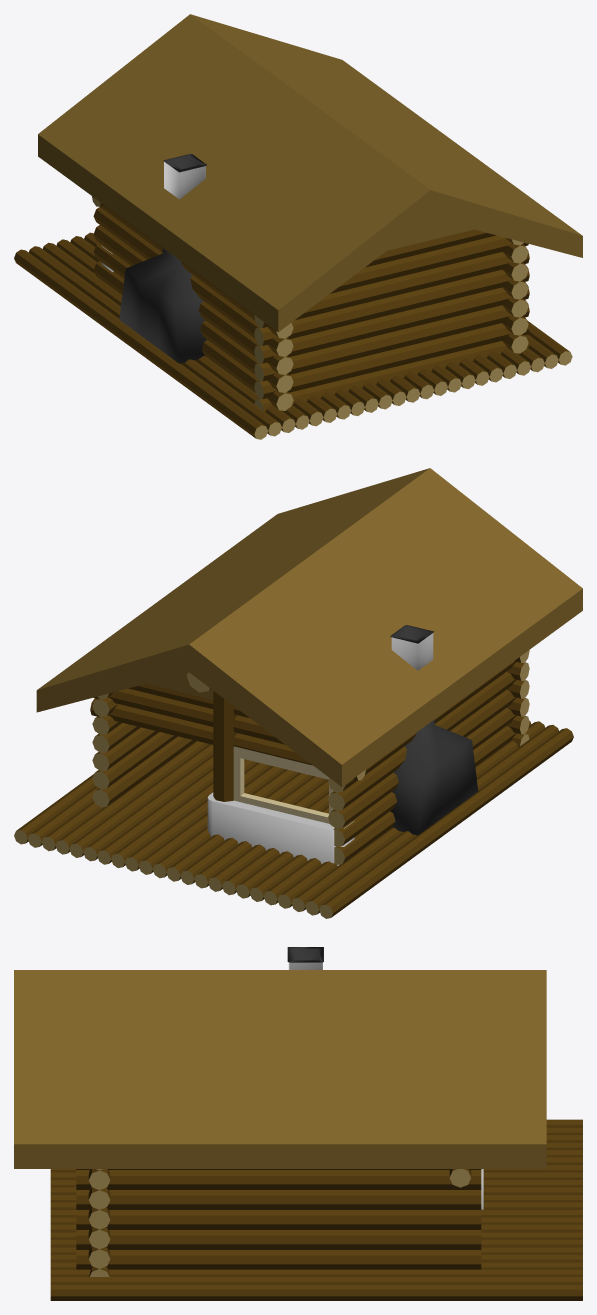
Rendered from WoodShelter.fbx.
3 views of the same model, one above another, from view 1: azimuth 30°, elevation 25°; view 2: azimuth 150°, elevation 25°; view 3: azimuth 270°, elevation 25° (orthographic). The views are drawn at different scales.
Visible parts, largest first — view 1: Cube.001, Cylinder.003, Cylinder.001, Cylinder, Cube.004; view 2: Cube.001, Cylinder.001, Cylinder, Cube.004, Cylinder.005, Cube.002, Cube.003, Cylinder.002, Cylinder.003; view 3: Cube.001, Cylinder, Cylinder.001, Cylinder.003, Cube.004.
Part boxes in pixels (x1=…): Cube.001: x1=38, y1=14, x2=582, y2=332; Cylinder.003: x1=254, y1=229, x2=529, y2=411; Cylinder.001: x1=14, y1=232, x2=572, y2=439; Cylinder: x1=93, y1=205, x2=528, y2=410; Cube.004: x1=119, y1=154, x2=206, y2=363; Cube.001: x1=36, y1=468, x2=582, y2=786; Cylinder.001: x1=14, y1=721, x2=573, y2=918; Cylinder: x1=92, y1=661, x2=516, y2=864; Cube.004: x1=390, y1=625, x2=478, y2=835; Cylinder.005: x1=90, y1=683, x2=365, y2=780; Cube.002: x1=207, y1=792, x2=354, y2=865; Cube.003: x1=233, y1=746, x2=333, y2=823; Cylinder.002: x1=213, y1=691, x2=237, y2=801; Cylinder.003: x1=507, y1=650, x2=529, y2=747; Cube.001: x1=14, y1=970, x2=546, y2=1168; Cylinder: x1=76, y1=1169, x2=481, y2=1269; Cylinder.001: x1=50, y1=1119, x2=582, y2=1300; Cylinder.003: x1=88, y1=1169, x2=110, y2=1276; Cube.004: x1=287, y1=947, x2=323, y2=969.
Size of the model in its own units: 115 by 161 by 77.52.
